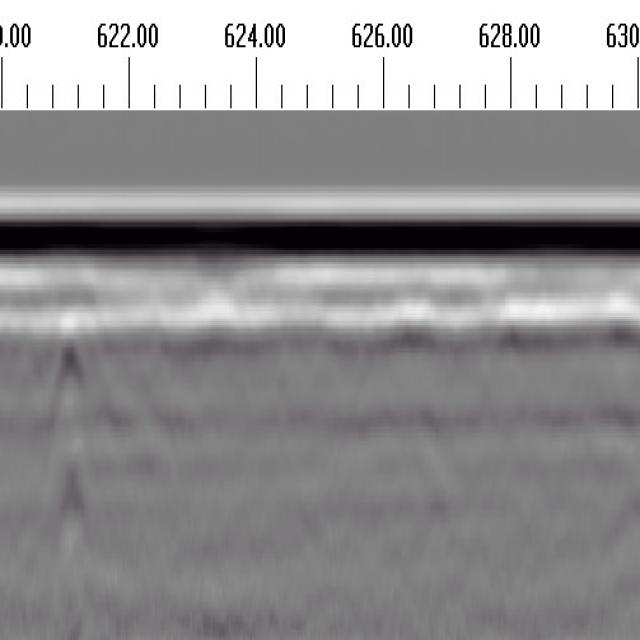crack: (53, 305, 90, 553)
